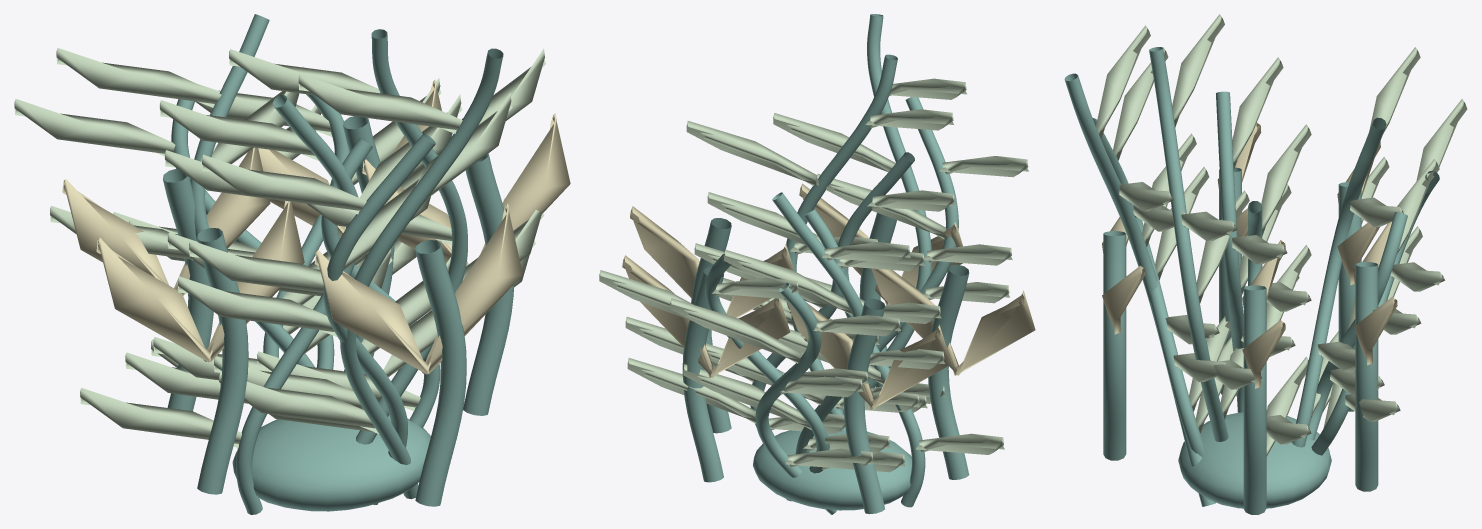
File: bio_aquatic_frond_07_near.glb
The picture shows the model from 3 angles, left to right: view 1: azimuth 30°, elevation 25°; view 2: azimuth 150°, elevation 25°; view 3: azimuth 270°, elevation 25°; orthographic projection. The views are drawn at different scales.
Parts seen in each view (by area): view 1: Ruffled aquatic blade.010, Holdfast, Ruffled aquatic blade.035, Ruffled aquatic blade.020, Secondary fan lobe.004, Ruffled aquatic blade.005, Ruffled aquatic blade.025, Secondary fan lobe.008, Flexible stipe.002, Branching support.002, Secondary fan lobe.002, Branching support.004 (+15 smaller); view 2: Ruffled aquatic blade.030, Ruffled aquatic blade.005, Ruffled aquatic blade.020, Ruffled aquatic blade.015, Holdfast, Ruffled aquatic blade.010, Ruffled aquatic blade.025, Secondary fan lobe.008, Ruffled aquatic blade.035, Secondary fan lobe.006, Secondary fan lobe.002, Branching support.004 (+15 smaller); view 3: Holdfast, Flexible stipe.005, Ruffled aquatic blade, Ruffled aquatic blade.025, Ruffled aquatic blade.010, Ruffled aquatic blade.035, Branching support.002, Branching support, Flexible stipe.001, Branching support.003, Ruffled aquatic blade.030, Ruffled aquatic blade.005 (+15 smaller).
Boxes of the visible parts, box(x1,y1,x2,y2) form: Ruffled aquatic blade.010: box(189, 74, 512, 433); Holdfast: box(232, 415, 430, 511); Ruffled aquatic blade.035: box(177, 154, 437, 433); Ruffled aquatic blade.020: box(80, 94, 462, 448); Secondary fan lobe.004: box(314, 204, 522, 374); Ruffled aquatic blade.005: box(50, 48, 367, 380); Ruffled aquatic blade.025: box(213, 48, 545, 409); Secondary fan lobe.008: box(96, 200, 304, 362); Flexible stipe.002: box(340, 48, 503, 499); Branching support.002: box(415, 240, 466, 506); Secondary fan lobe.002: box(62, 147, 270, 295); Branching support.004: box(197, 228, 248, 494); Ruffled aquatic blade.030: box(627, 298, 900, 469); Ruffled aquatic blade.005: box(705, 242, 944, 453); Ruffled aquatic blade.020: box(707, 190, 1004, 454); Ruffled aquatic blade.015: box(599, 270, 905, 472); Holdfast: box(753, 430, 911, 510); Ruffled aquatic blade.010: box(773, 78, 1012, 403); Ruffled aquatic blade.025: box(665, 109, 953, 411); Secondary fan lobe.008: box(871, 268, 1035, 375); Ruffled aquatic blade.035: box(769, 156, 1028, 412); Secondary fan lobe.006: box(622, 255, 790, 378); Secondary fan lobe.002: box(784, 298, 951, 409); Branching support.004: box(928, 264, 969, 479); Holdfast: box(1178, 412, 1331, 508); Flexible stipe.005: box(1149, 47, 1228, 441); Ruffled aquatic blade: box(1261, 124, 1311, 456); Ruffled aquatic blade.025: box(1172, 14, 1261, 419); Ruffled aquatic blade.010: box(1096, 25, 1230, 411); Ruffled aquatic blade.035: box(1113, 47, 1233, 433); Branching support.002: box(1103, 231, 1126, 460); Branching support: box(1243, 285, 1266, 514); Flexible stipe.001: box(1292, 117, 1386, 447); Branching support.003: box(1355, 262, 1378, 491); Ruffled aquatic blade.030: box(1323, 99, 1467, 428); Ruffled aquatic blade.005: box(1311, 47, 1420, 417).
Bounding box in the file's own units: 1.85 × 1.89 × 1.57.
